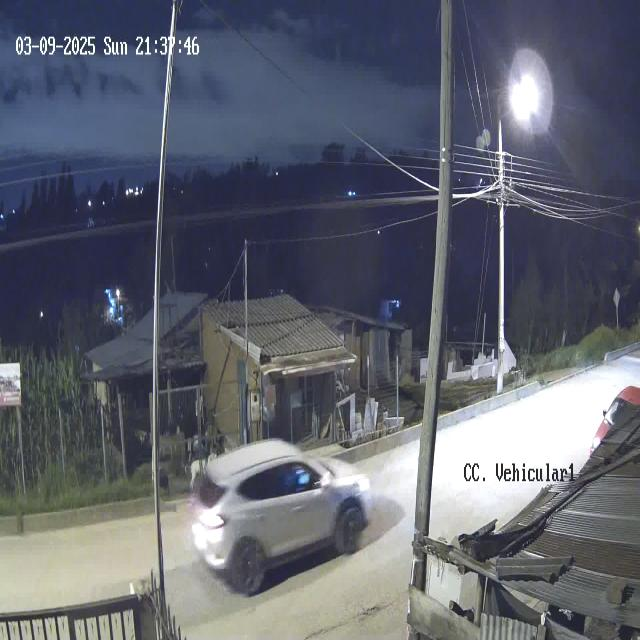SUV: (189, 437, 374, 599)
